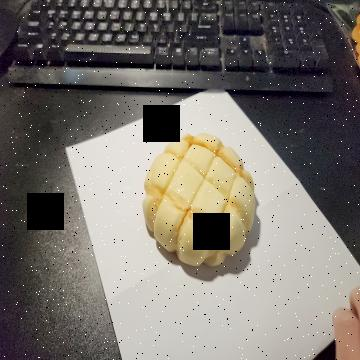melon_bread: (141, 131, 256, 270)
